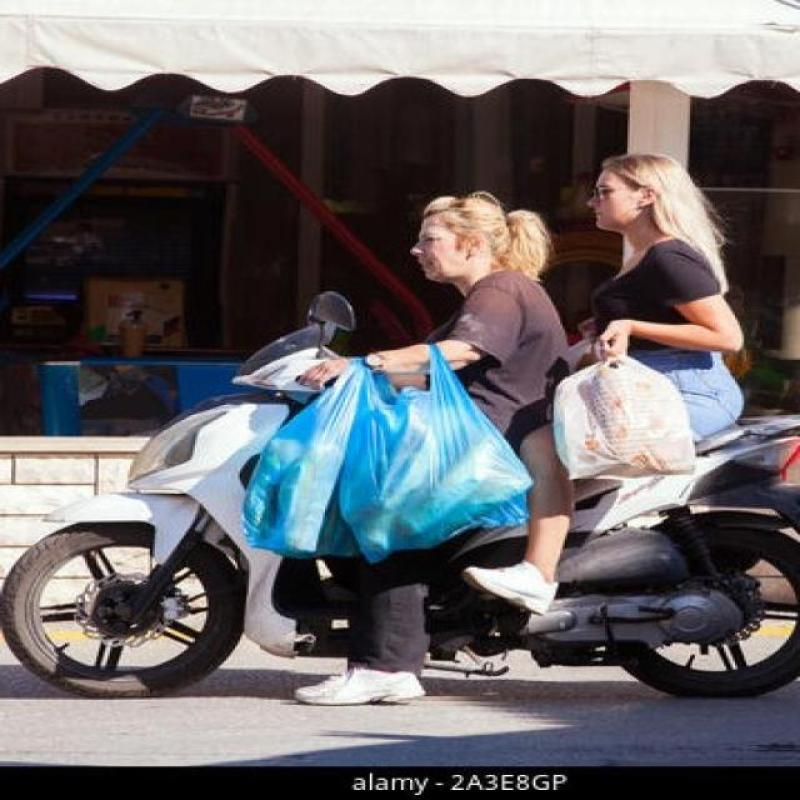nohelmet: (411, 192, 544, 307), (582, 141, 692, 275)
